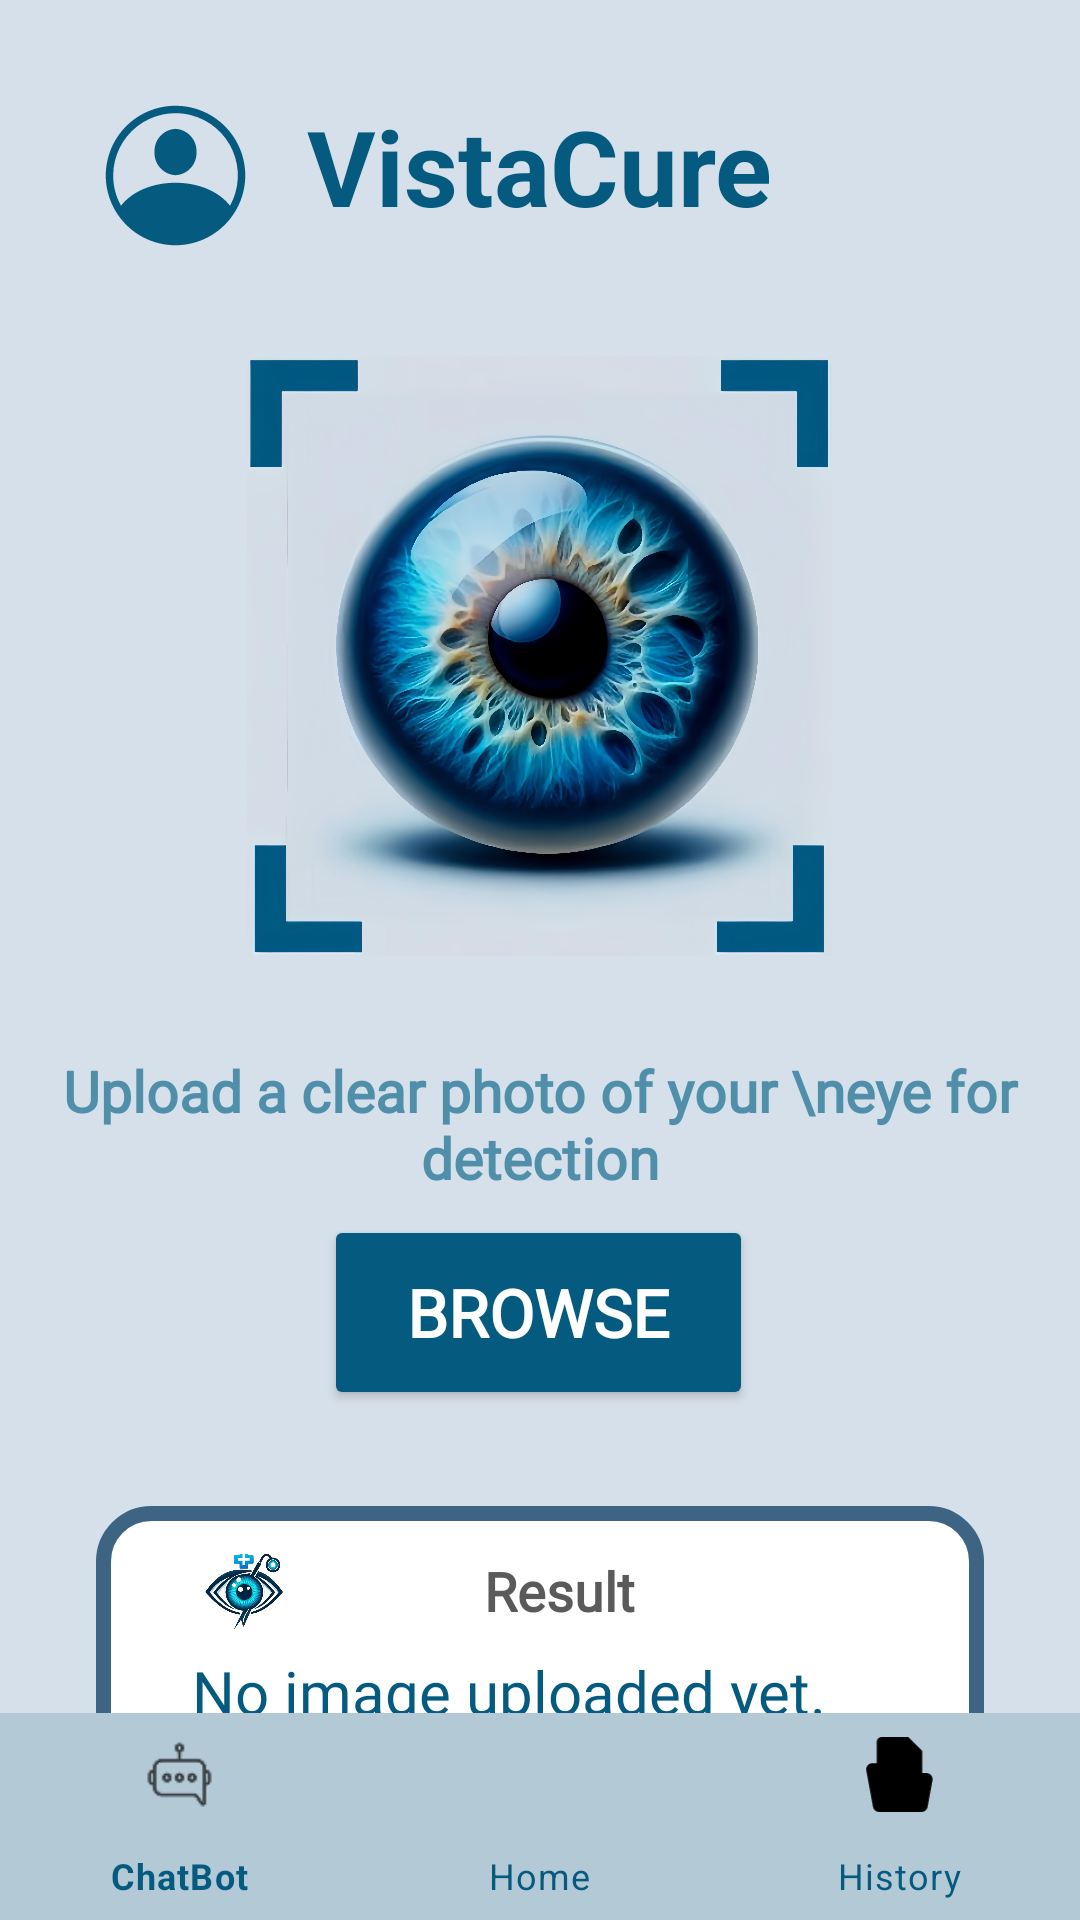

Named icons in this screenshot (1080×1920) and their bounding boxes, (x1, y1, x2, y2):
user: (105, 105, 246, 246)
